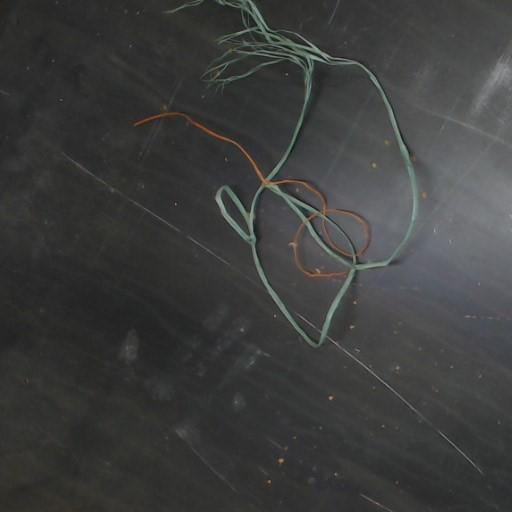conveyor belt: (281, 68, 409, 257), (257, 195, 339, 325)
thread: (134, 0, 417, 346), (165, 0, 205, 12)
